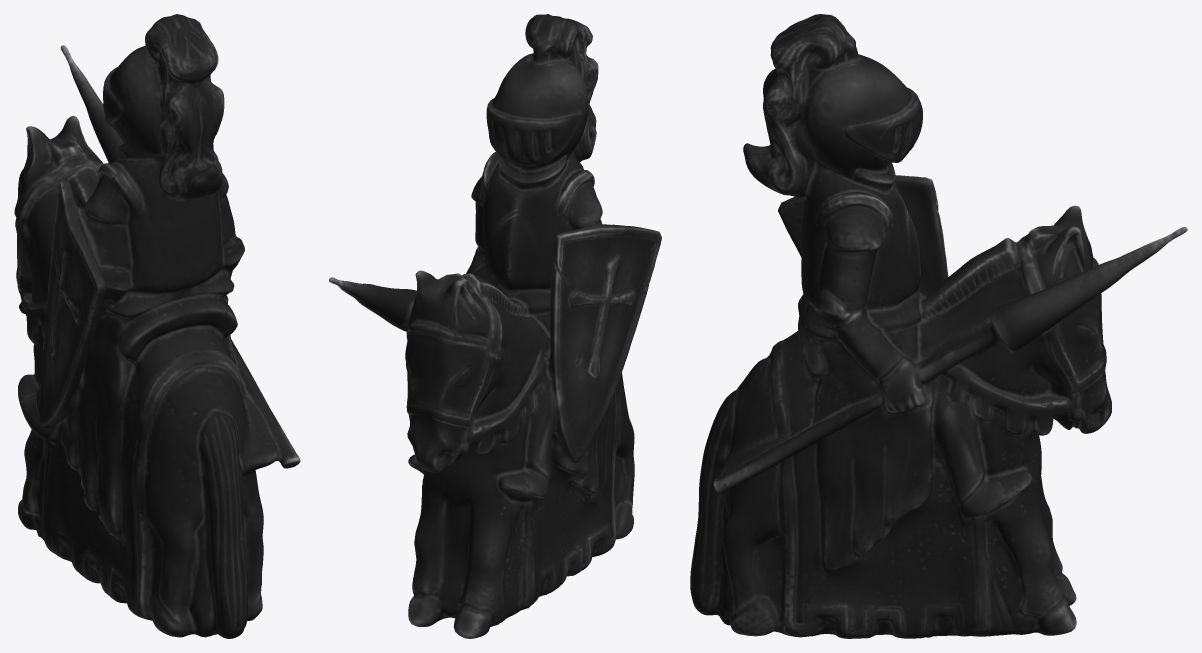
File: NegroCaballo_scaled.glb
The picture shows the model from 3 angles, left to right: view 1: azimuth 30°, elevation 25°; view 2: azimuth 150°, elevation 25°; view 3: azimuth 270°, elevation 25°; orthographic projection. The views are drawn at different scales.
Visible parts, largest first — view 1: 12943_Stone_Chess_Knight_Side_A_v2_l1; view 2: 12943_Stone_Chess_Knight_Side_A_v2_l1; view 3: 12943_Stone_Chess_Knight_Side_A_v2_l1.
Boxes of the visible parts, left/top/right/bottom form: 12943_Stone_Chess_Knight_Side_A_v2_l1: left=14, top=14, right=300, bottom=638; 12943_Stone_Chess_Knight_Side_A_v2_l1: left=329, top=14, right=661, bottom=638; 12943_Stone_Chess_Knight_Side_A_v2_l1: left=690, top=14, right=1187, bottom=638.
Size of the model in its own units: 3.15 by 9.66 by 7.22.
1 material, 1 textured.
